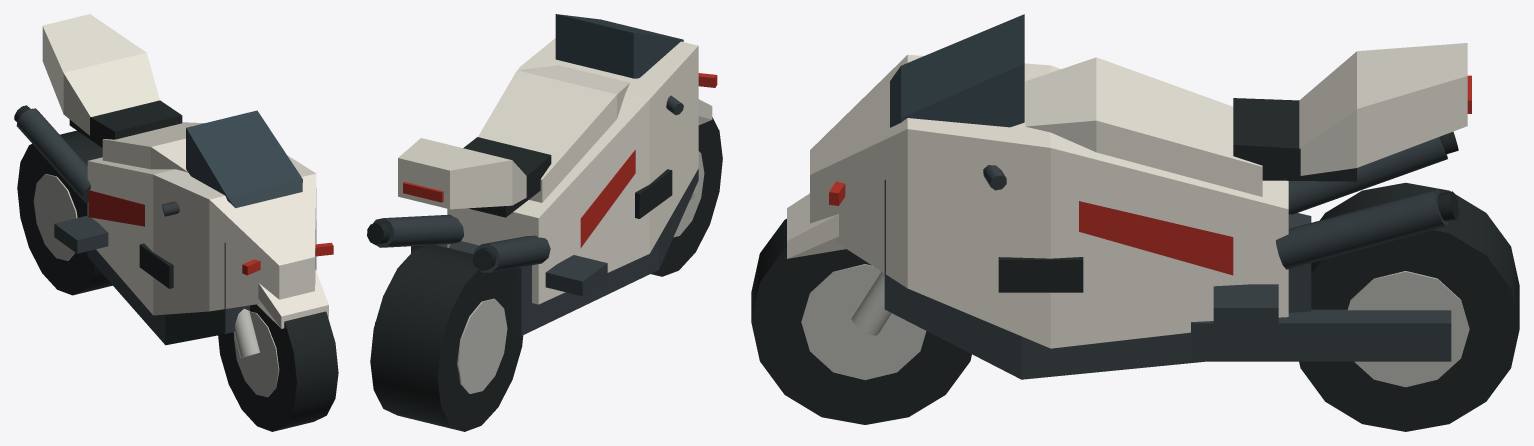
3 renders of one model, left to right at view 1: azimuth 30°, elevation 25°; view 2: azimuth 150°, elevation 25°; view 3: azimuth 270°, elevation 25°, orthographic. The views are drawn at different scales.
Visible parts, largest first — view 1: motorcycle-fleet-armor, front-wheel-fleet-rubber, motorcycle-fleet-glass, motorcycle-fleet-machine, rear-wheel-fleet-rubber, motorcycle-fleet-rubber, rear-wheel-fleet-edge, front-wheel-fleet-edge, motorcycle-fleet-red, steering-fleet-armor, steering-fleet-edge; view 2: motorcycle-fleet-armor, rear-wheel-fleet-rubber, motorcycle-fleet-machine, motorcycle-fleet-glass, motorcycle-fleet-rubber, rear-wheel-fleet-edge, front-wheel-fleet-rubber, motorcycle-fleet-red, front-wheel-fleet-edge; view 3: motorcycle-fleet-armor, motorcycle-fleet-machine, rear-wheel-fleet-rubber, front-wheel-fleet-rubber, motorcycle-fleet-glass, motorcycle-fleet-rubber, front-wheel-fleet-edge, rear-wheel-fleet-edge, motorcycle-fleet-red, steering-fleet-armor, steering-fleet-edge.
Boxes of the visible parts, x1,y1,x2,y2 form: motorcycle-fleet-armor: (42,14,316,315); front-wheel-fleet-rubber: (218,304,338,431); motorcycle-fleet-glass: (186,110,302,208); motorcycle-fleet-machine: (16,108,316,345); rear-wheel-fleet-rubber: (17,130,112,295); motorcycle-fleet-rubber: (14,100,182,288); rear-wheel-fleet-edge: (33,174,77,260); front-wheel-fleet-edge: (233,311,279,397); motorcycle-fleet-red: (88,190,333,275); steering-fleet-armor: (257,269,328,328); steering-fleet-edge: (233,308,259,357); motorcycle-fleet-armor: (398,38,698,304); rear-wheel-fleet-rubber: (370,244,523,431); motorcycle-fleet-machine: (372,169,698,335); motorcycle-fleet-glass: (555,14,683,78); motorcycle-fleet-rubber: (367,137,672,270); rear-wheel-fleet-edge: (457,298,507,393); front-wheel-fleet-rubber: (651,117,722,276); motorcycle-fleet-red: (403,73,717,247); front-wheel-fleet-edge: (673,151,704,237); motorcycle-fleet-armor: (810,43,1467,348); motorcycle-fleet-machine: (884,136,1451,379); rear-wheel-fleet-rubber: (1299,182,1519,431); front-wheel-fleet-rubber: (751,218,971,424); motorcycle-fleet-glass: (890,14,1024,127); motorcycle-fleet-rubber: (998,98,1458,292); front-wheel-fleet-edge: (801,264,926,380); rear-wheel-fleet-edge: (1347,271,1469,387); motorcycle-fleet-red: (829,75,1471,275); steering-fleet-armor: (787,193,845,258); steering-fleet-edge: (851,272,891,335).
Bounding box in the file's own units: 4.14 × 6.6 × 12.37.
